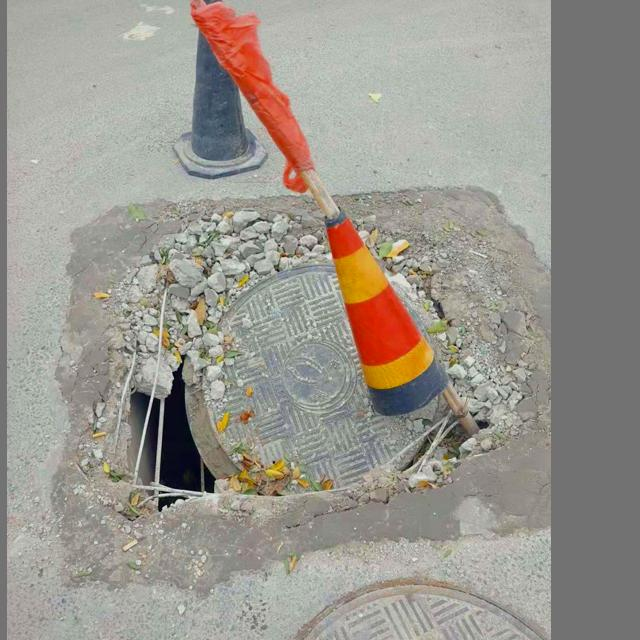circle: (123, 257, 469, 498)
